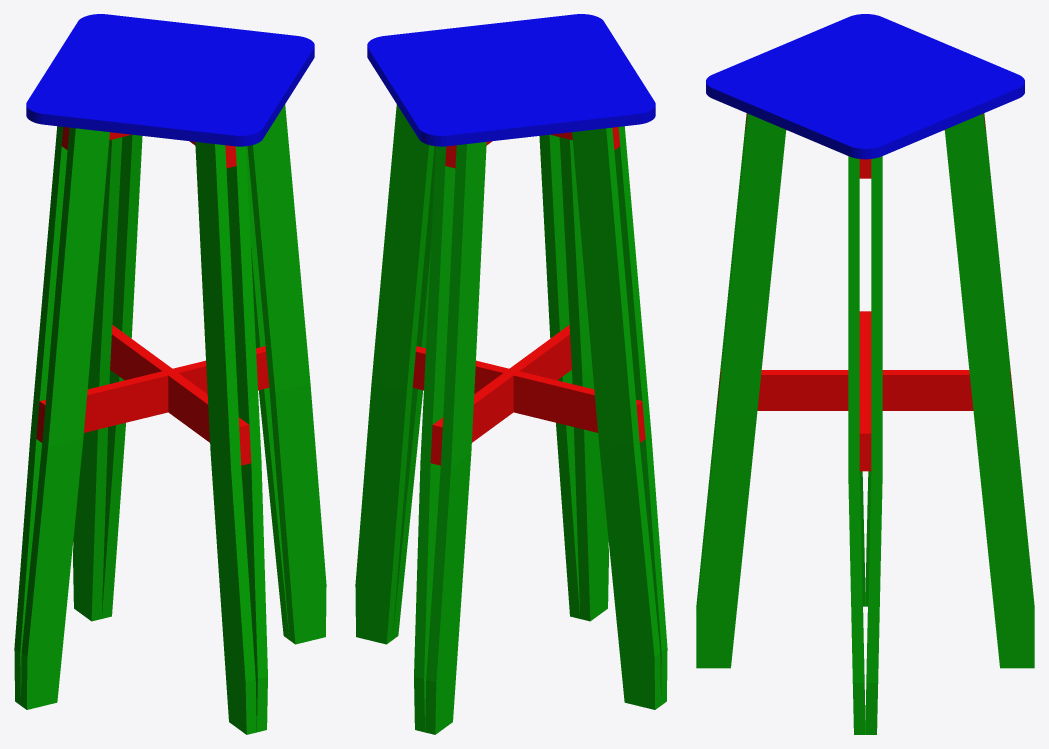
The model's file is result.glb.
3 renders of one model, left to right at view 1: azimuth 30°, elevation 25°; view 2: azimuth 150°, elevation 25°; view 3: azimuth 270°, elevation 25°, orthographic. The views are drawn at different scales.
Visible parts, largest first — view 1: 77be2b2c-3af0-49cc-b11f-f6b376e90aad__undefined, d03b572a-287d-44c7-b8a2-bc742c5de782__undefined, cd622b1d-2755-47b7-a646-b49da07b4fed__undefined, 4403cdf0-e810-4da1-af93-10f657daeafa__Box_4, 90df7592-85a5-4bb7-8560-a45f637c0460__undefined, 9ae49edc-ee59-4426-a0e1-e20189bc2e21__undefined, d9fd8f38-545b-4b4e-879f-716108121874__Box_5, cf54cc33-7ee9-48e4-82d1-b9b6dfa5f073__Box_6, e3512ee9-95cc-4978-a316-db5e0aad18c1__undefined, a3c7a0de-e757-42b1-93ad-b226257ca2ad__undefined, d88a7ac0-41db-4e8f-b66f-9de1c8950259__undefined, 1e127a39-b542-4468-bddc-c47ac2621aa9__undefined (+1 smaller); view 2: a3c7a0de-e757-42b1-93ad-b226257ca2ad__undefined, 3ed0547c-e109-4ba1-84fd-503766d8f2a6__undefined, 9ae49edc-ee59-4426-a0e1-e20189bc2e21__undefined, e3512ee9-95cc-4978-a316-db5e0aad18c1__undefined, cf54cc33-7ee9-48e4-82d1-b9b6dfa5f073__Box_6, cd622b1d-2755-47b7-a646-b49da07b4fed__undefined, d9fd8f38-545b-4b4e-879f-716108121874__Box_5, 4403cdf0-e810-4da1-af93-10f657daeafa__Box_4, 90df7592-85a5-4bb7-8560-a45f637c0460__undefined, 77be2b2c-3af0-49cc-b11f-f6b376e90aad__undefined, d88a7ac0-41db-4e8f-b66f-9de1c8950259__undefined, 1e127a39-b542-4468-bddc-c47ac2621aa9__undefined (+1 smaller); view 3: e3512ee9-95cc-4978-a316-db5e0aad18c1__undefined, 90df7592-85a5-4bb7-8560-a45f637c0460__undefined, cf54cc33-7ee9-48e4-82d1-b9b6dfa5f073__Box_6, d9fd8f38-545b-4b4e-879f-716108121874__Box_5, 4403cdf0-e810-4da1-af93-10f657daeafa__Box_4, 1e127a39-b542-4468-bddc-c47ac2621aa9__undefined, d03b572a-287d-44c7-b8a2-bc742c5de782__undefined, 3ed0547c-e109-4ba1-84fd-503766d8f2a6__undefined, d88a7ac0-41db-4e8f-b66f-9de1c8950259__undefined, 9ae49edc-ee59-4426-a0e1-e20189bc2e21__undefined, cd622b1d-2755-47b7-a646-b49da07b4fed__undefined.
Part boxes in pixels (x1=…): 77be2b2c-3af0-49cc-b11f-f6b376e90aad__undefined: x1=21, y1=127, x2=109, y2=709; d03b572a-287d-44c7-b8a2-bc742c5de782__undefined: x1=247, y1=104, x2=326, y2=644; cd622b1d-2755-47b7-a646-b49da07b4fed__undefined: x1=195, y1=142, x2=256, y2=734; 4403cdf0-e810-4da1-af93-10f657daeafa__Box_4: x1=26, y1=78, x2=277, y2=146; 90df7592-85a5-4bb7-8560-a45f637c0460__undefined: x1=226, y1=146, x2=267, y2=732; 9ae49edc-ee59-4426-a0e1-e20189bc2e21__undefined: x1=73, y1=137, x2=122, y2=621; d9fd8f38-545b-4b4e-879f-716108121874__Box_5: x1=42, y1=45, x2=298, y2=114; cf54cc33-7ee9-48e4-82d1-b9b6dfa5f073__Box_6: x1=63, y1=14, x2=314, y2=81; e3512ee9-95cc-4978-a316-db5e0aad18c1__undefined: x1=101, y1=134, x2=142, y2=618; a3c7a0de-e757-42b1-93ad-b226257ca2ad__undefined: x1=14, y1=126, x2=67, y2=705; d88a7ac0-41db-4e8f-b66f-9de1c8950259__undefined: x1=36, y1=346, x2=269, y2=442; 1e127a39-b542-4468-bddc-c47ac2621aa9__undefined: x1=110, y1=325, x2=251, y2=465; a3c7a0de-e757-42b1-93ad-b226257ca2ad__undefined: x1=572, y1=127, x2=660, y2=709; 3ed0547c-e109-4ba1-84fd-503766d8f2a6__undefined: x1=355, y1=104, x2=434, y2=644; 9ae49edc-ee59-4426-a0e1-e20189bc2e21__undefined: x1=425, y1=142, x2=486, y2=734; e3512ee9-95cc-4978-a316-db5e0aad18c1__undefined: x1=414, y1=146, x2=455, y2=732; cf54cc33-7ee9-48e4-82d1-b9b6dfa5f073__Box_6: x1=367, y1=29, x2=503, y2=146; cd622b1d-2755-47b7-a646-b49da07b4fed__undefined: x1=559, y1=137, x2=608, y2=621; d9fd8f38-545b-4b4e-879f-716108121874__Box_5: x1=441, y1=20, x2=582, y2=139; 4403cdf0-e810-4da1-af93-10f657daeafa__Box_4: x1=519, y1=14, x2=655, y2=130; 90df7592-85a5-4bb7-8560-a45f637c0460__undefined: x1=539, y1=134, x2=580, y2=618; 77be2b2c-3af0-49cc-b11f-f6b376e90aad__undefined: x1=614, y1=126, x2=667, y2=705; d88a7ac0-41db-4e8f-b66f-9de1c8950259__undefined: x1=412, y1=346, x2=645, y2=442; 1e127a39-b542-4468-bddc-c47ac2621aa9__undefined: x1=430, y1=325, x2=571, y2=465; e3512ee9-95cc-4978-a316-db5e0aad18c1__undefined: x1=944, y1=114, x2=1034, y2=668; 90df7592-85a5-4bb7-8560-a45f637c0460__undefined: x1=696, y1=114, x2=786, y2=668; cf54cc33-7ee9-48e4-82d1-b9b6dfa5f073__Box_6: x1=809, y1=57, x2=1024, y2=159; d9fd8f38-545b-4b4e-879f-716108121874__Box_5: x1=752, y1=34, x2=977, y2=139; 4403cdf0-e810-4da1-af93-10f657daeafa__Box_4: x1=706, y1=14, x2=921, y2=115; 1e127a39-b542-4468-bddc-c47ac2621aa9__undefined: x1=717, y1=370, x2=1013, y2=410; d03b572a-287d-44c7-b8a2-bc742c5de782__undefined: x1=848, y1=156, x2=865, y2=734; 3ed0547c-e109-4ba1-84fd-503766d8f2a6__undefined: x1=865, y1=156, x2=882, y2=734; d88a7ac0-41db-4e8f-b66f-9de1c8950259__undefined: x1=859, y1=311, x2=871, y2=471; 9ae49edc-ee59-4426-a0e1-e20189bc2e21__undefined: x1=984, y1=113, x2=1034, y2=610; cd622b1d-2755-47b7-a646-b49da07b4fed__undefined: x1=696, y1=113, x2=746, y2=610.
Bounding box in the file's own units: 382 × 725 × 382.
